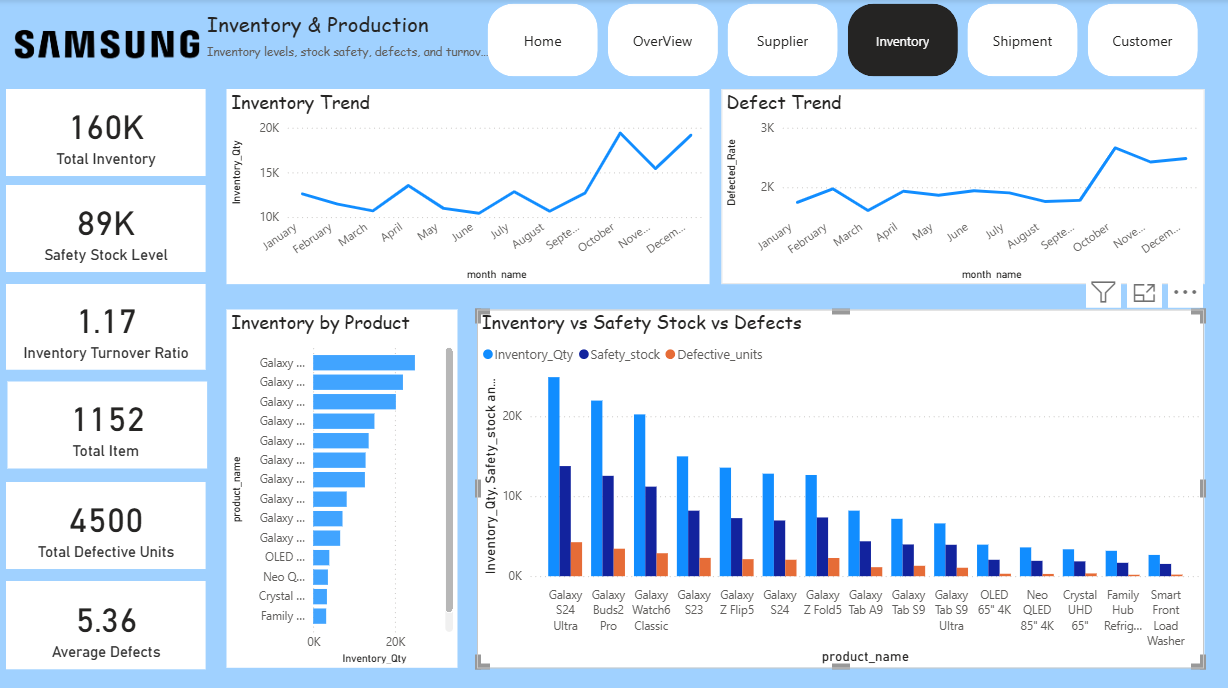

This screenshot's page, from the dashboard's own definition file:
{"tool":"powerbi","page":{"name":"Invenotry","canvas":[1280,720],"ordinal":3},"visuals":[{"type":"shape","title":"Inventory & Production","box":[236,10.9,273.5,65.6],"z":0},{"type":"image","box":[0,0,214.1,93.8],"z":1000},{"type":"card","fields":{"Values":["Measure_Table.Inventory_Qty"]},"box":[6.3,93.8,207.9,90.7],"z":2000},{"type":"card","fields":{"Values":["Measure_Table.Safety_stock"]},"box":[6.3,193.8,207.9,90.7],"z":3000},{"type":"card","fields":{"Values":["Measure_Table.Turnover_Inventory"]},"box":[6.3,297,207.9,89.1],"z":4000},{"type":"card","fields":{"Values":["CountNonNull(fact_production.defective_units)"]},"box":[6.3,502.8,207.9,90.7],"z":5000},{"type":"card","fields":{"Values":["Avg(fact_production.defective_units)"]},"box":[6.3,606,207.9,92.2],"z":6000},{"type":"card","fields":{"Values":["Count(fact_inventory.inventory_id)"]},"box":[7.8,398.6,207.9,90.7],"z":7000},{"type":"clusteredBarChart","title":"Inventory Stock","fields":{"Category":["product.product_name"],"Y":["Measure_Table.Inventory_Qty"]},"box":[236,323.5,240.7,373.6],"z":8000},{"type":"clusteredColumnChart","title":"Inventory_Stock Safety_Stock Defective_Units","fields":{"Category":["product.product_name"],"Y":["Measure_Table.Inventory_Qty","Sum(fact_inventory.safety_stock_level)","Sum(fact_production.defective_units)"]},"box":[497,323.5,758,373.6],"z":9000},{"type":"lineChart","title":"Inventory_Qty","fields":{"Y":["Measure_Table.Inventory_Qty"],"Category":["date.month_name"]},"box":[236,93.8,503.3,203.2],"z":10000},{"type":"lineChart","title":"Defected_Rate ","fields":{"Category":["date.month_name"],"Y":["Measure_Table.Defected_Rate"]},"box":[751.8,93.8,503.3,203.2],"z":11000},{"type":"pageNavigator","box":[508,4.7,745.5,76.6],"z":12000}]}

Visuals, with their boxes in screenshot pixels (x1, y1, x2, y2), scaled from the page's 1280x720 canvas onto the 1228x688 screenshot:
"Inventory & Production" shape: crop(226, 10, 489, 73)
image: crop(0, 0, 205, 90)
card - Measure_Table.Inventory_Qty: crop(6, 90, 205, 176)
card - Measure_Table.Safety_stock: crop(6, 185, 205, 272)
card - Measure_Table.Turnover_Inventory: crop(6, 284, 205, 369)
card - CountNonNull(fact_production.defective_units): crop(6, 480, 205, 567)
card - Avg(fact_production.defective_units): crop(6, 579, 205, 667)
card - Count(fact_inventory.inventory_id): crop(7, 381, 207, 468)
"Inventory Stock" clusteredBarChart: crop(226, 309, 457, 666)
"Inventory_Stock Safety_Stock Defective_Units" clusteredColumnChart: crop(477, 309, 1204, 666)
"Inventory_Qty" lineChart: crop(226, 90, 709, 284)
"Defected_Rate " lineChart: crop(721, 90, 1204, 284)
pageNavigator: crop(487, 4, 1203, 78)
